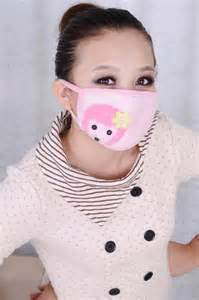OK: (75, 63, 162, 150)
